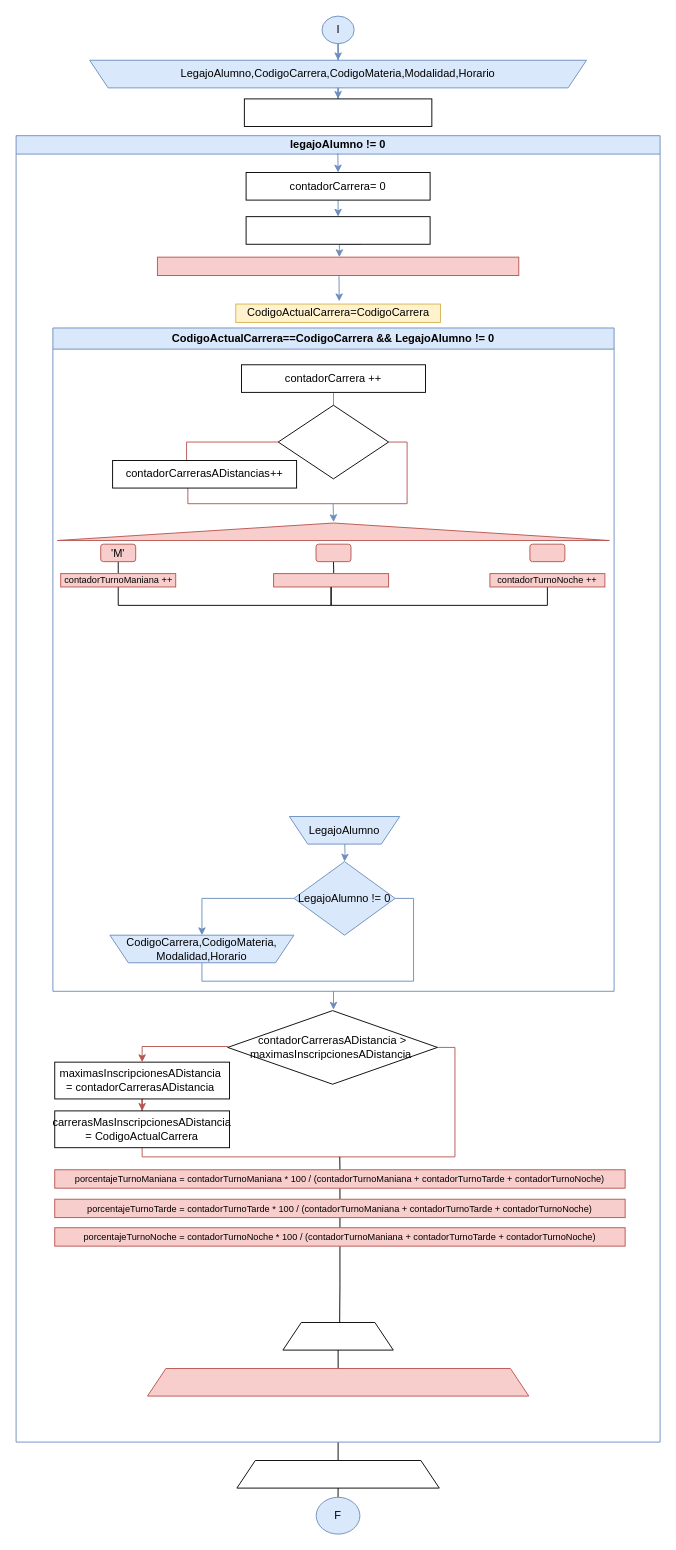
The diagram is 676 pixels wide and 1550 high, and some of its shapes have lost their labels. The shapes that lost their labels are listed below. From the top down, each one's box as (x1, y1, x2, y2) in pixels, then its label:
(243, 98, 432, 126): maximasInscripcionesADistancia = 0
(245, 216, 430, 244): contadorCarareasADistancia = 0
(156, 256, 519, 276): contadorTurnoManiana = 0, contadorTurnoTarde = 0, contadorTurnoNoche = 0
(277, 404, 389, 479): Modalidad == 'D'
(56, 522, 609, 540): horario
(315, 543, 351, 562): 'T'
(529, 543, 565, 562): 'N'
(273, 573, 389, 587): contadorTurnoTarde ++
(282, 1322, 393, 1350): contadorCarrera
(147, 1368, 529, 1396): porcentajeTurnoManiana, porcentajeTurnoTarde, porcentajeTurnoNoche
(236, 1460, 439, 1488): carrerasMasInscripcionesADistancia
